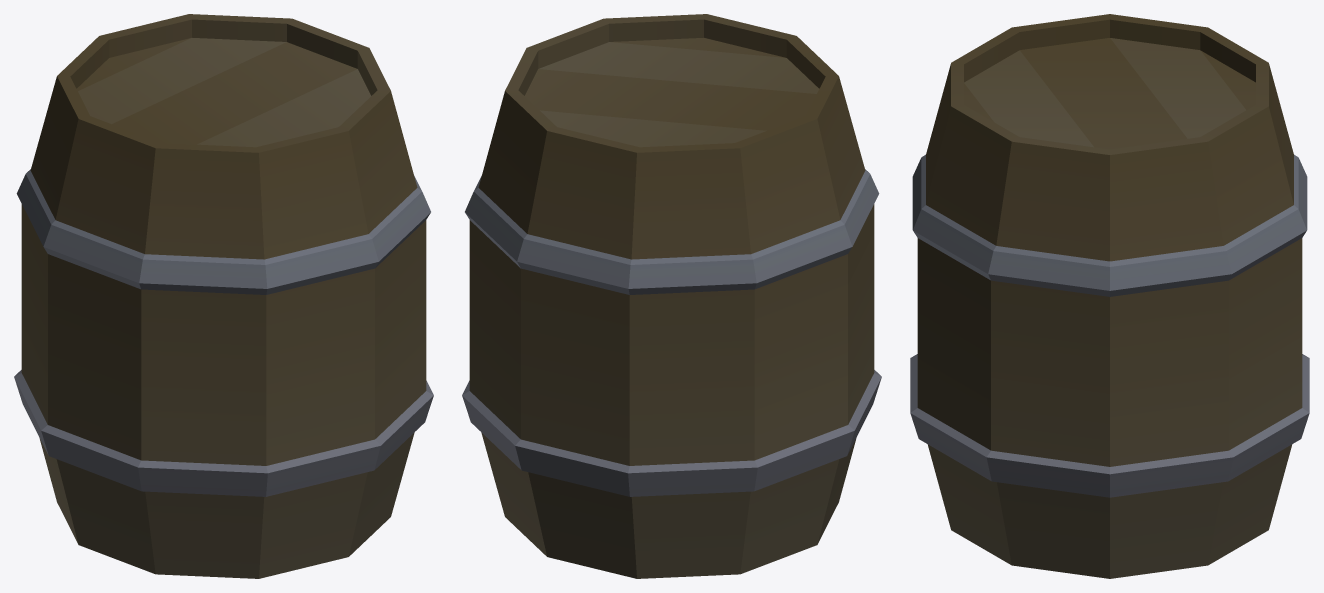
Rendered from Barrel_1A.fbx.
3 views of the same model, side by side, from view 1: azimuth 30°, elevation 25°; view 2: azimuth 150°, elevation 25°; view 3: azimuth 270°, elevation 25° (orthographic).
Parts seen in each view (by area): view 1: pCylinder1; view 2: pCylinder1; view 3: pCylinder1.
Part boxes in pixels (x1=…): pCylinder1: x1=14, y1=14, x2=433, y2=578; pCylinder1: x1=462, y1=14, x2=881, y2=578; pCylinder1: x1=910, y1=14, x2=1309, y2=578.
Bounding box in the file's own units: 151 × 168 × 143.
